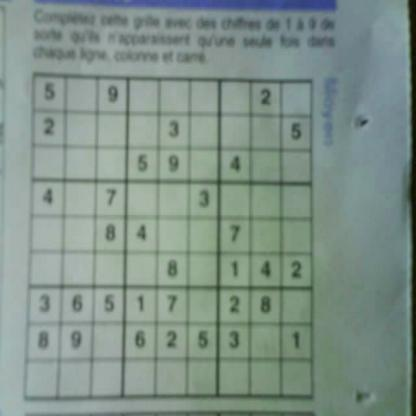sudoku: (20, 65, 320, 406)
